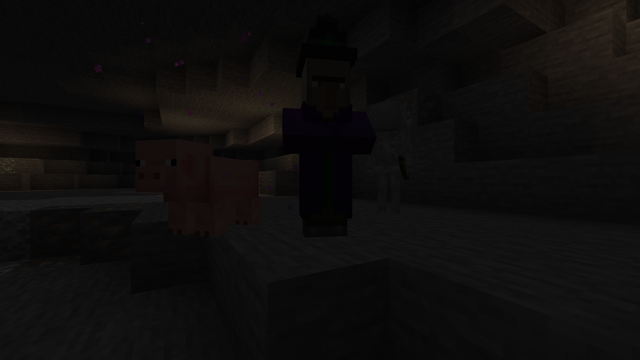cochons: (175, 153, 261, 239)
sorcieres: (289, 43, 361, 243)
squelettes: (371, 99, 412, 216)
